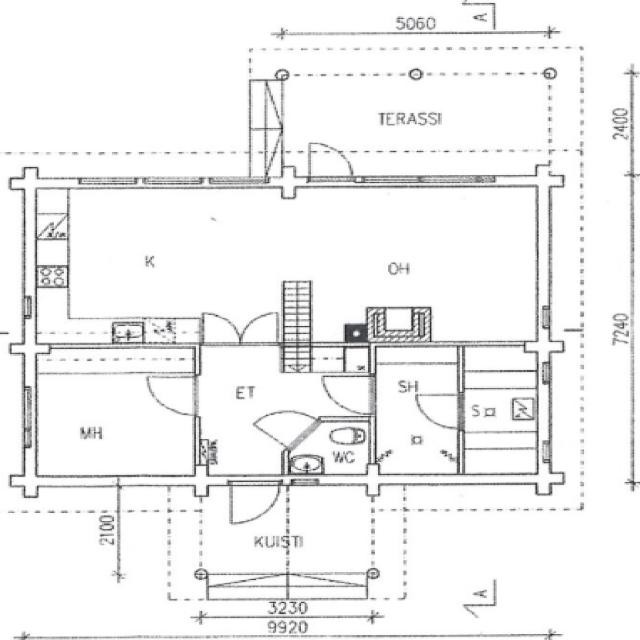door: (253, 396, 320, 450), (230, 476, 279, 524), (146, 377, 200, 416), (308, 143, 352, 187), (324, 377, 374, 412), (416, 395, 464, 429), (240, 312, 278, 348), (203, 312, 240, 348)
